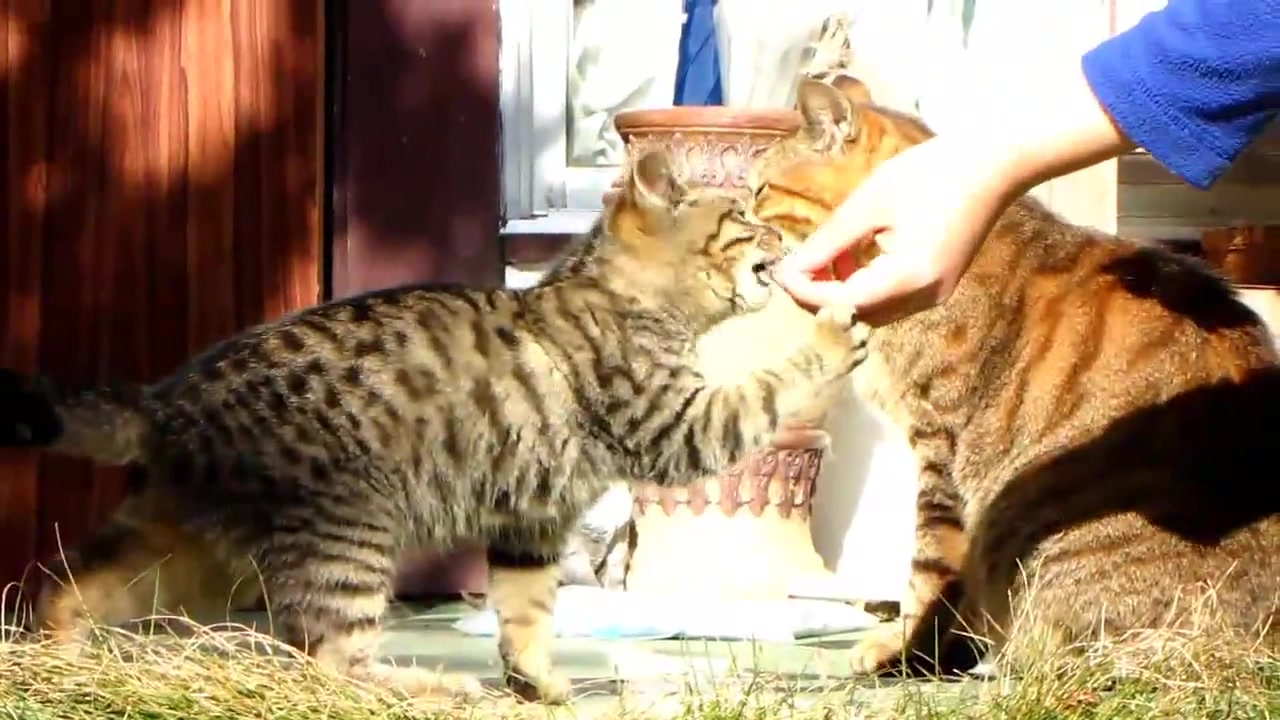cat: (3, 141, 875, 708), (750, 73, 1280, 684)
